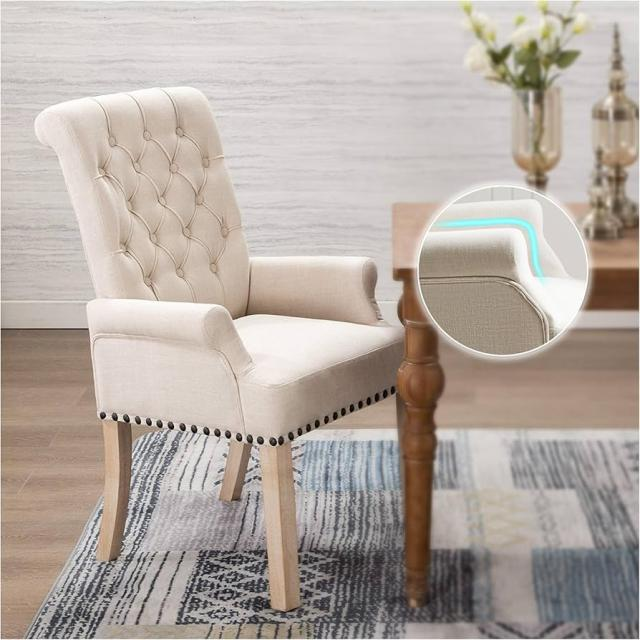Chair: (31, 74, 430, 625)
